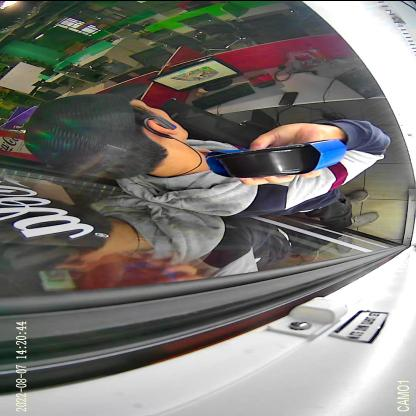blue: (206, 137, 348, 176)
